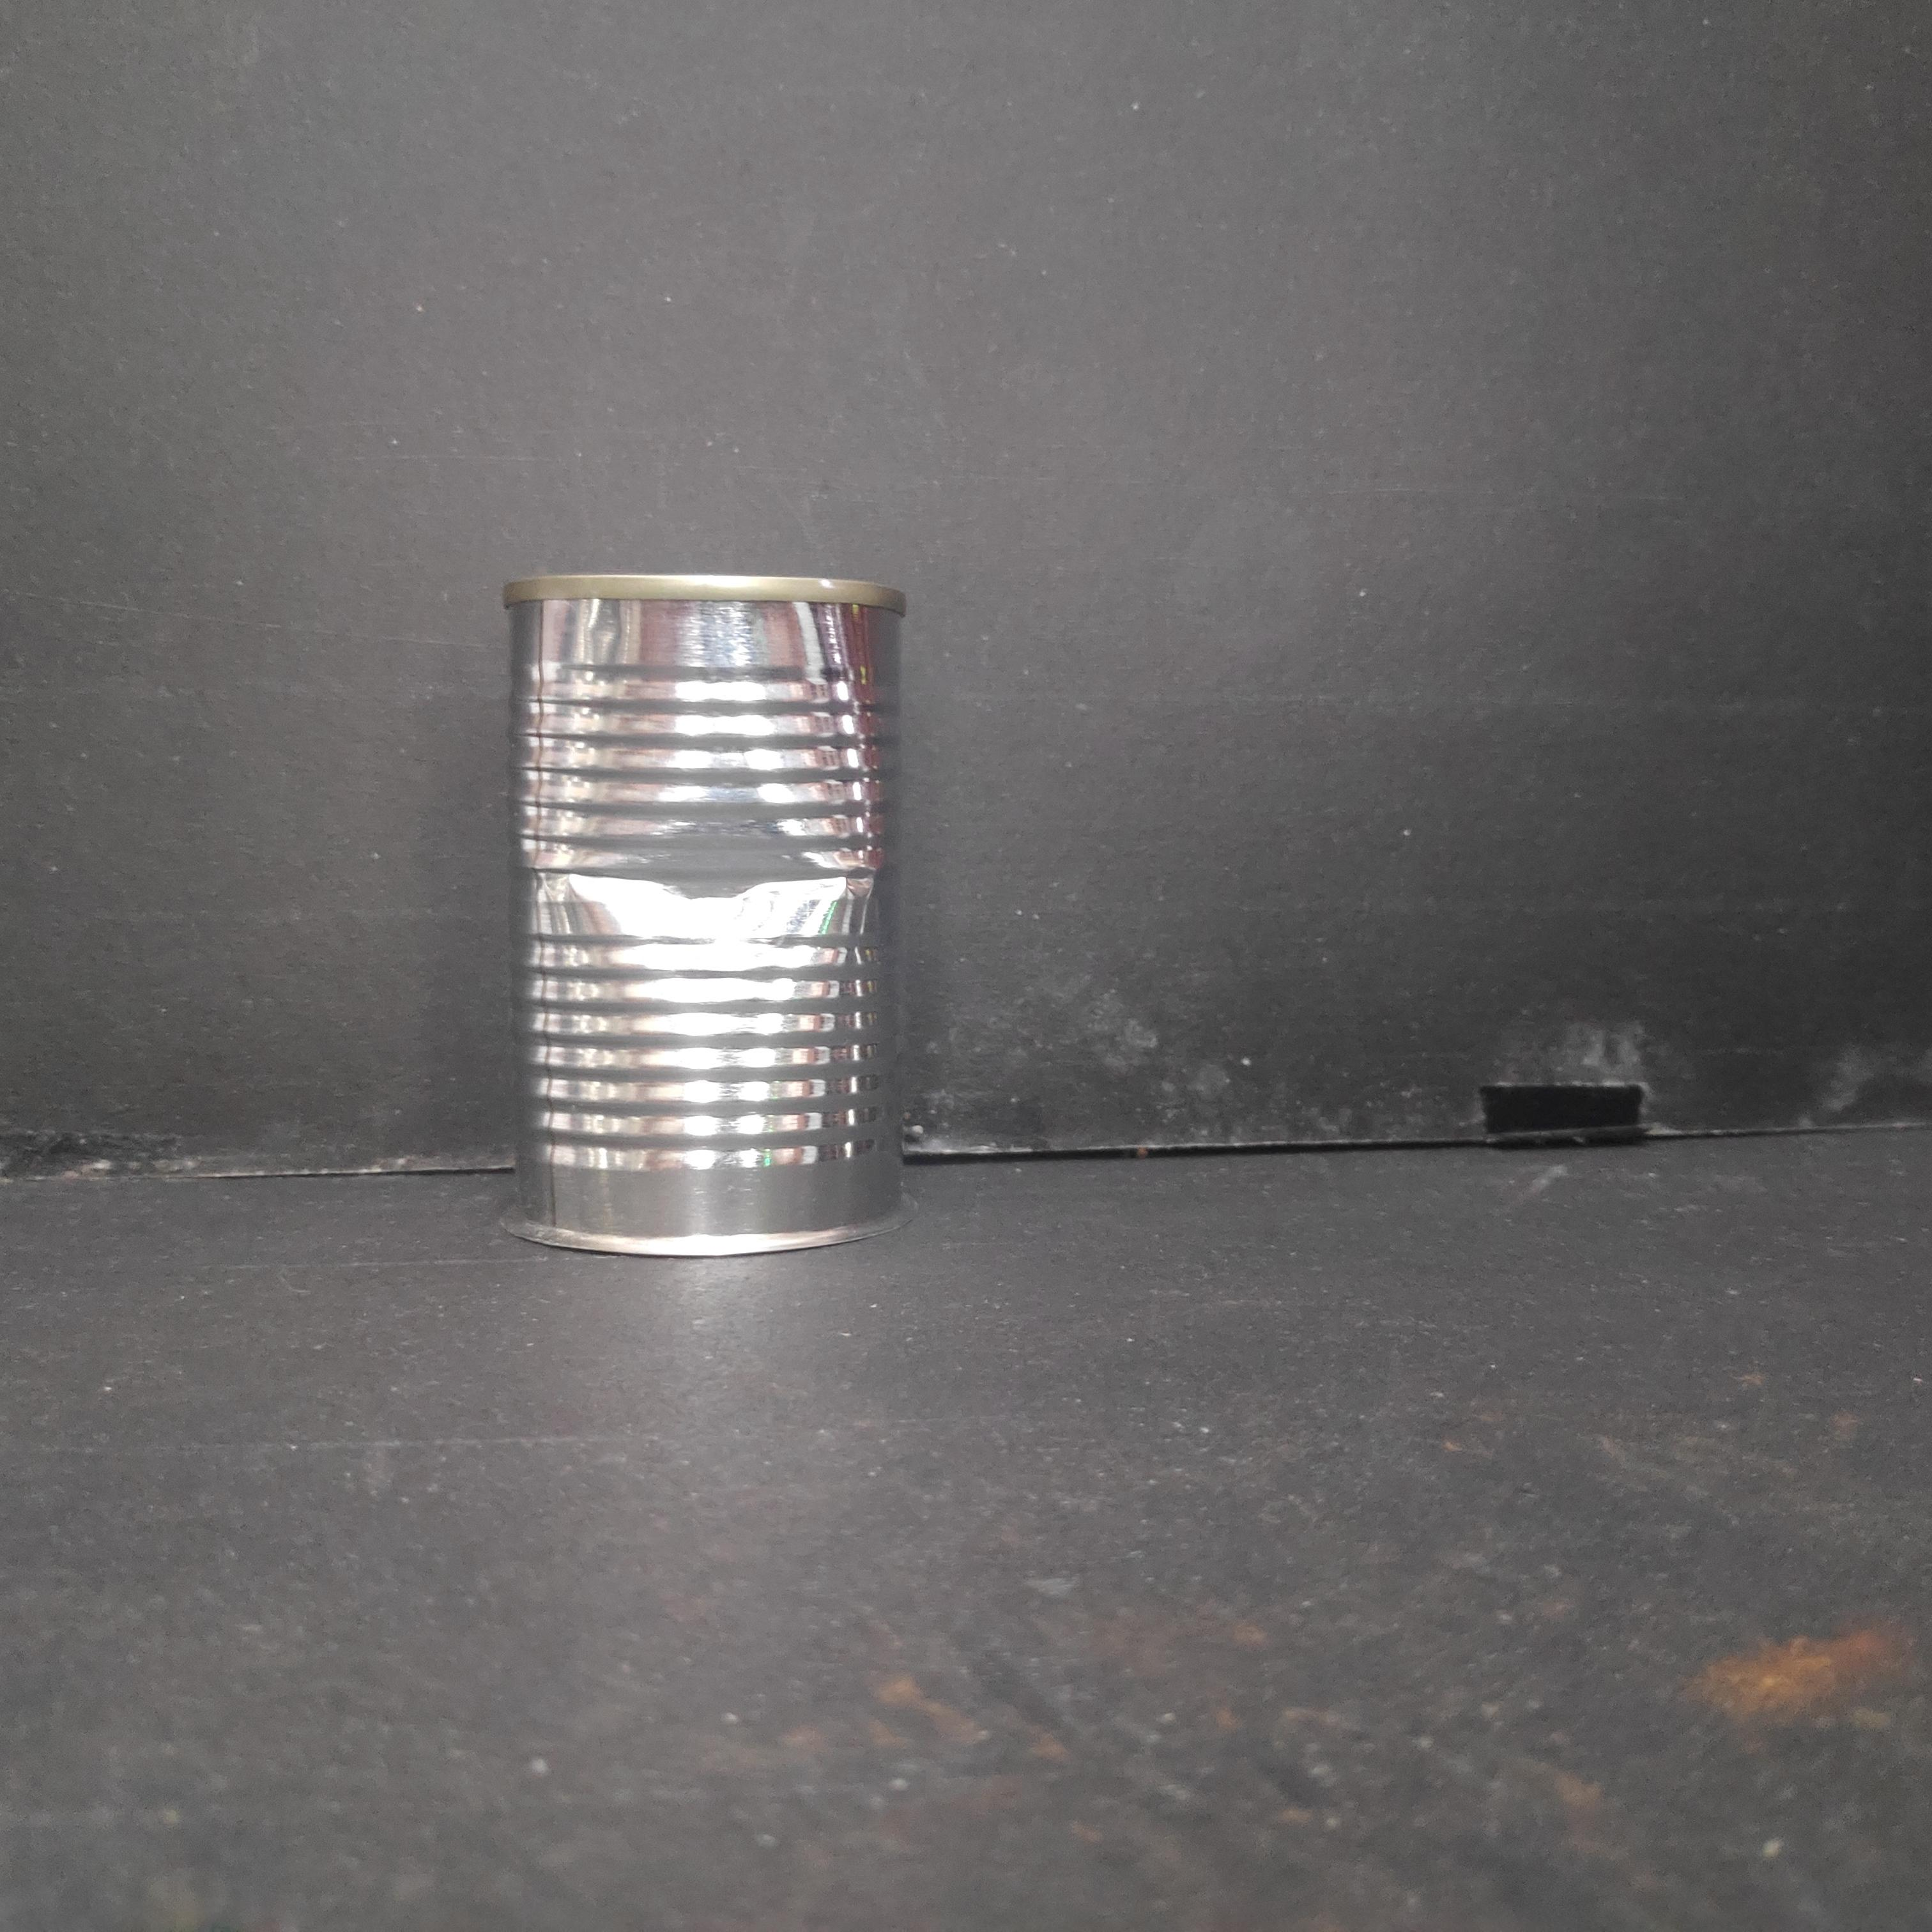Minor Defect: (487, 556, 914, 1275)
